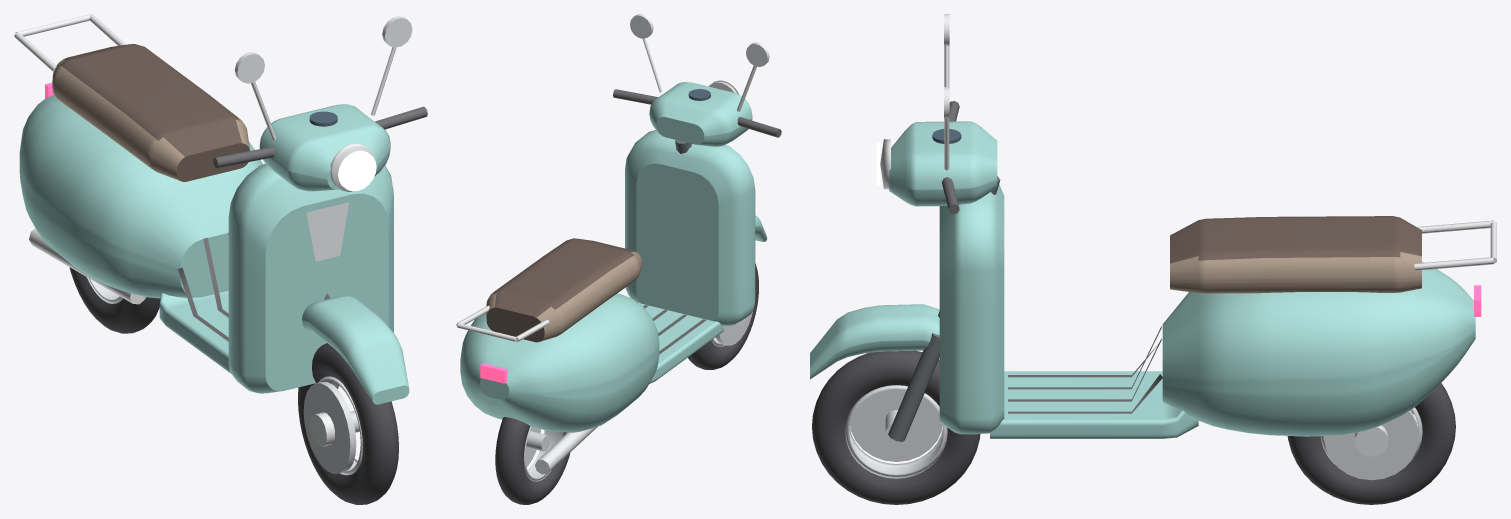
File: scooter-moped.glb
The picture shows the model from 3 angles, left to right: view 1: azimuth 30°, elevation 25°; view 2: azimuth 150°, elevation 25°; view 3: azimuth 270°, elevation 25°; orthographic projection. The views are drawn at different scales.
Parts seen in each view (by area): view 1: scooter-moped; view 2: scooter-moped; view 3: scooter-moped.
Part boxes in pixels (bbox=[...]): scooter-moped: bbox=[14, 14, 427, 504]; scooter-moped: bbox=[456, 14, 781, 504]; scooter-moped: bbox=[810, 14, 1496, 504].
Bounding box in the file's own units: 0.6833 × 1.38 × 1.91.
